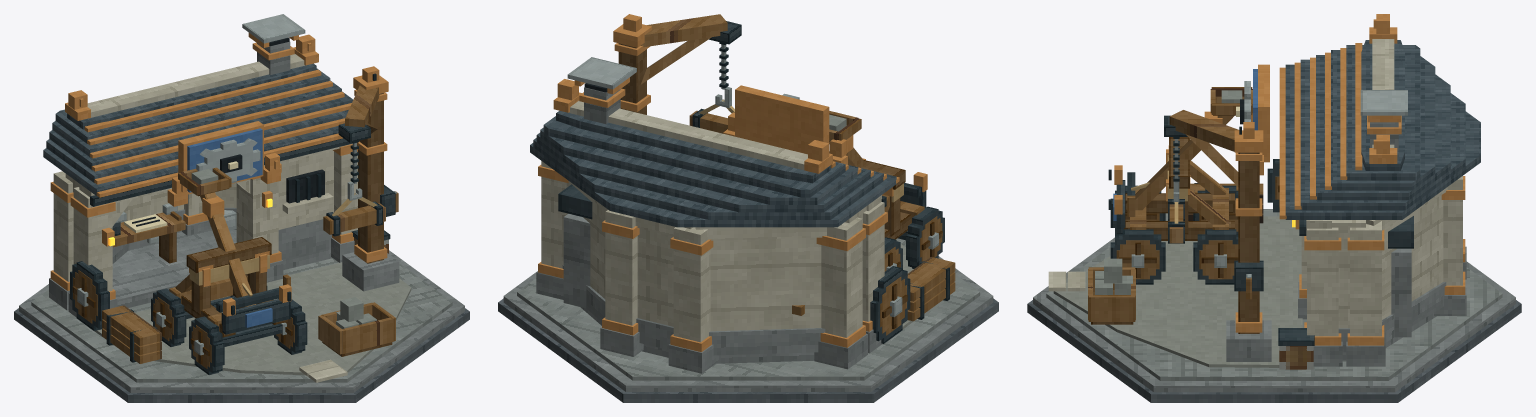
File: dwarf_siege_arsenal_hex_v1.glb
3 renders of one model, left to right at view 1: azimuth 30°, elevation 25°; view 2: azimuth 150°, elevation 25°; view 3: azimuth 270°, elevation 25°, orthographic. The views are drawn at different scales.
Parts seen in each view (by area): view 1: Dwarf_Siege_Arsenal_Hex_V1_Workshop, Dwarf_Siege_Arsenal_Hex_V1_Roofs, Dwarf_Siege_Arsenal_Hex_V1_Equipment, Dwarf_Siege_Arsenal_Hex_V1_Foundation, Dwarf_Siege_Arsenal_Hex_V1_Catapult, Dwarf_Siege_Arsenal_Hex_V1_Courtyard, Dwarf_Siege_Arsenal_Hex_V1_Details, Dwarf_Siege_Arsenal_Hex_V1_Faction; view 2: Dwarf_Siege_Arsenal_Hex_V1_Workshop, Dwarf_Siege_Arsenal_Hex_V1_Roofs, Dwarf_Siege_Arsenal_Hex_V1_Foundation, Dwarf_Siege_Arsenal_Hex_V1_Equipment, Dwarf_Siege_Arsenal_Hex_V1_Catapult, Dwarf_Siege_Arsenal_Hex_V1_Details; view 3: Dwarf_Siege_Arsenal_Hex_V1_Roofs, Dwarf_Siege_Arsenal_Hex_V1_Foundation, Dwarf_Siege_Arsenal_Hex_V1_Workshop, Dwarf_Siege_Arsenal_Hex_V1_Equipment, Dwarf_Siege_Arsenal_Hex_V1_Courtyard, Dwarf_Siege_Arsenal_Hex_V1_Catapult, Dwarf_Siege_Arsenal_Hex_V1_Details.
Boxes of the visible parts, box(x1,y1,x2,y2) form: Dwarf_Siege_Arsenal_Hex_V1_Workshop: box(49, 33, 357, 317); Dwarf_Siege_Arsenal_Hex_V1_Roofs: box(43, 14, 353, 197); Dwarf_Siege_Arsenal_Hex_V1_Equipment: box(70, 66, 399, 363); Dwarf_Siege_Arsenal_Hex_V1_Foundation: box(14, 250, 469, 402); Dwarf_Siege_Arsenal_Hex_V1_Catapult: box(151, 167, 307, 374); Dwarf_Siege_Arsenal_Hex_V1_Courtyard: box(94, 262, 411, 382); Dwarf_Siege_Arsenal_Hex_V1_Details: box(102, 37, 390, 253); Dwarf_Siege_Arsenal_Hex_V1_Faction: box(187, 128, 272, 327); Dwarf_Siege_Arsenal_Hex_V1_Workshop: box(536, 77, 887, 373); Dwarf_Siege_Arsenal_Hex_V1_Roofs: box(530, 57, 899, 227); Dwarf_Siege_Arsenal_Hex_V1_Foundation: box(498, 238, 998, 402); Dwarf_Siege_Arsenal_Hex_V1_Equipment: box(558, 14, 955, 343); Dwarf_Siege_Arsenal_Hex_V1_Catapult: box(829, 111, 944, 271); Dwarf_Siege_Arsenal_Hex_V1_Details: box(584, 83, 847, 164); Dwarf_Siege_Arsenal_Hex_V1_Roofs: box(1279, 14, 1480, 219); Dwarf_Siege_Arsenal_Hex_V1_Foundation: box(1027, 209, 1521, 402); Dwarf_Siege_Arsenal_Hex_V1_Workshop: box(1298, 115, 1466, 366); Dwarf_Siege_Arsenal_Hex_V1_Equipment: box(1088, 110, 1413, 361); Dwarf_Siege_Arsenal_Hex_V1_Courtyard: box(1048, 216, 1302, 367); Dwarf_Siege_Arsenal_Hex_V1_Catapult: box(1108, 87, 1252, 284); Dwarf_Siege_Arsenal_Hex_V1_Details: box(1236, 64, 1314, 369).
Size of the model in its own units: 1.59 by 1.05 by 1.84.
Materials: 1 (1 with a texture image).
